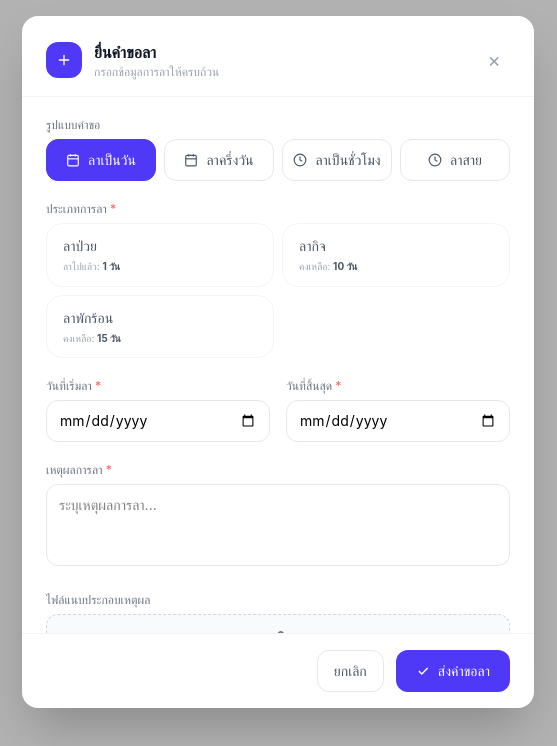
Test: LeaveRequestModal — validation errors › แสดง error ทุก field เมื่อกด submit โดยไม่กรอก
Click the button "ส่งคำขอลา" at (453, 671), box [396, 650, 510, 692]
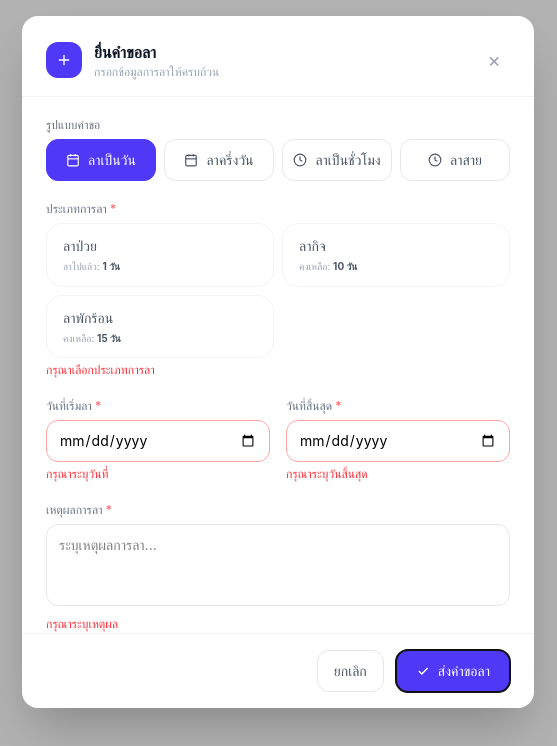
Check: the text "กรุณาเลือกประเภทการลา" is shown, box [46, 362, 155, 377]
Check: the text "กรุณาระบุวันที่" is shown, box [46, 466, 108, 481]
Check: the text "กรุณาระบุวันสิ้นสุด" is shown, box [286, 466, 368, 481]
